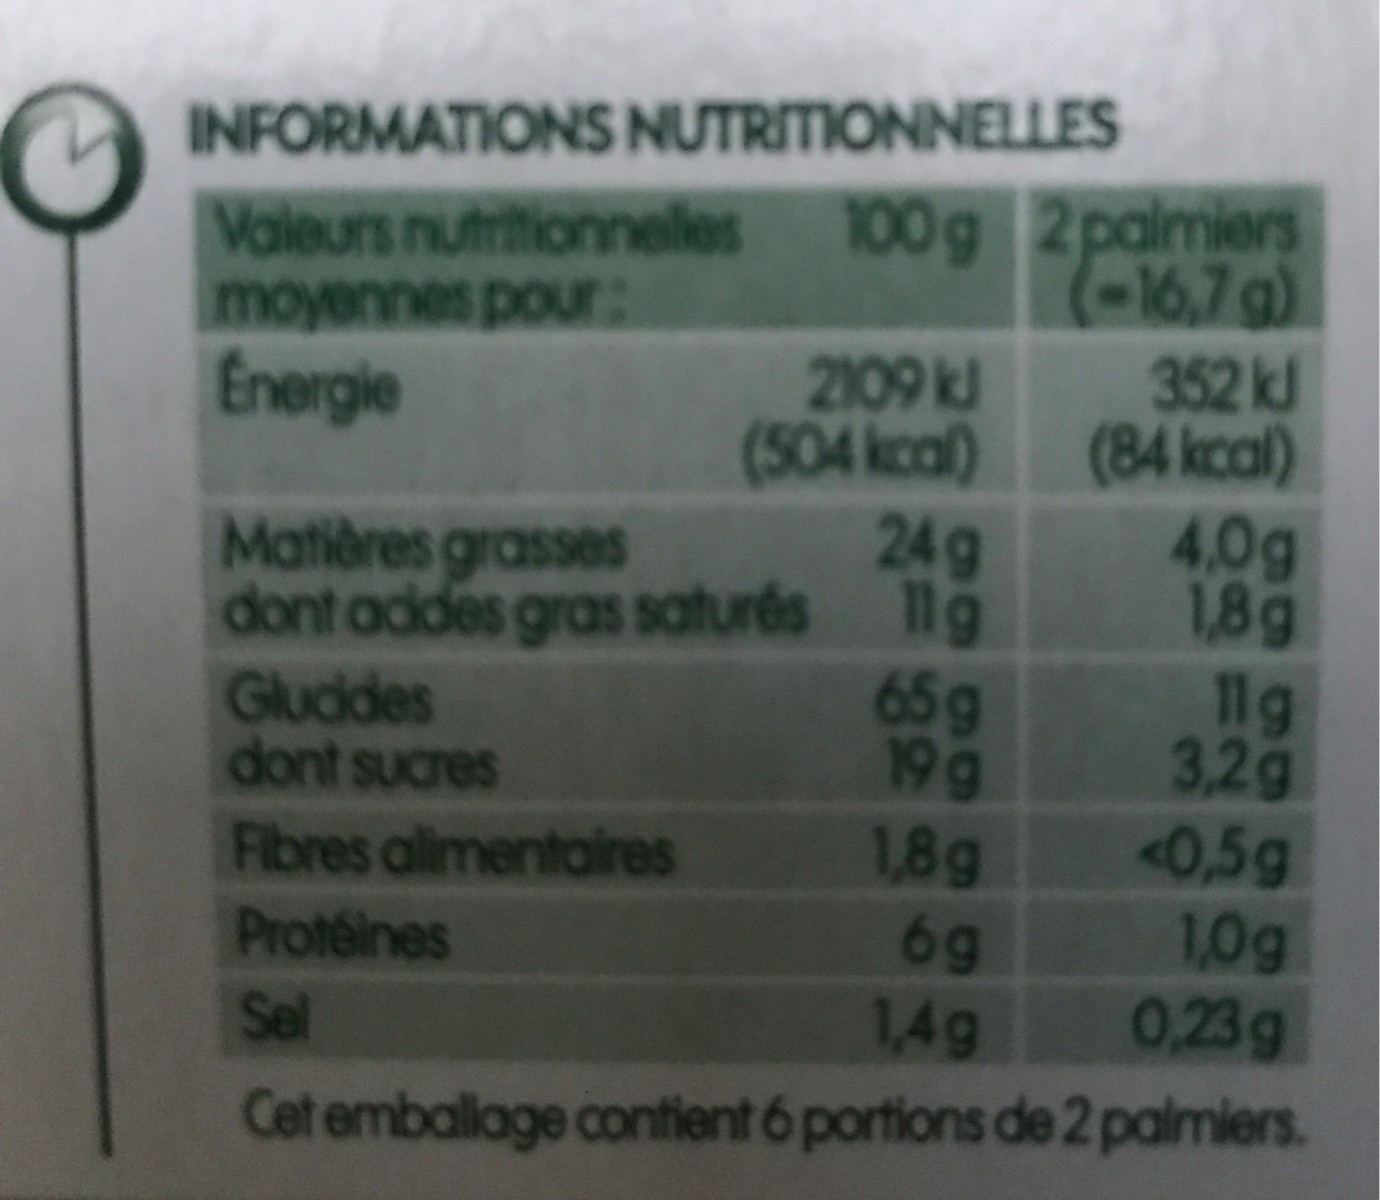column: (215, 348, 710, 1051), (1036, 188, 1299, 1064), (740, 351, 982, 1063)
table: (185, 192, 1320, 1070)
